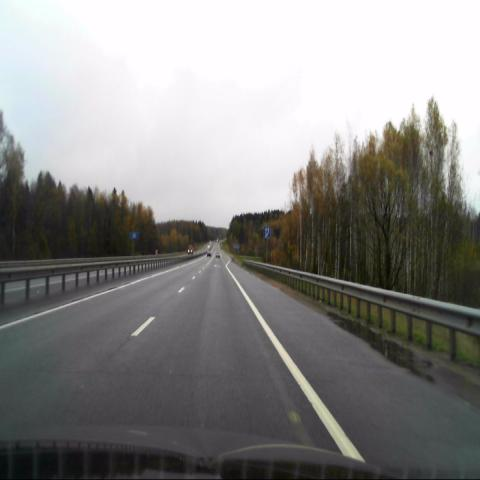5_15_3: (264, 226, 270, 238)
